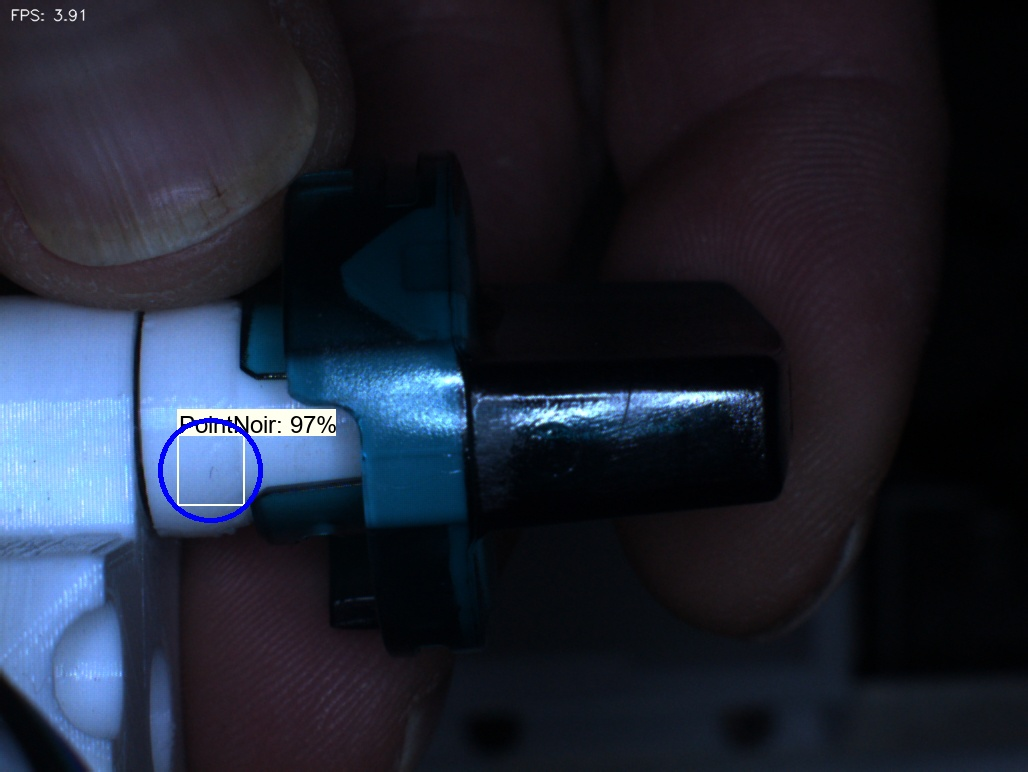DentOk: (302, 225, 387, 317)
